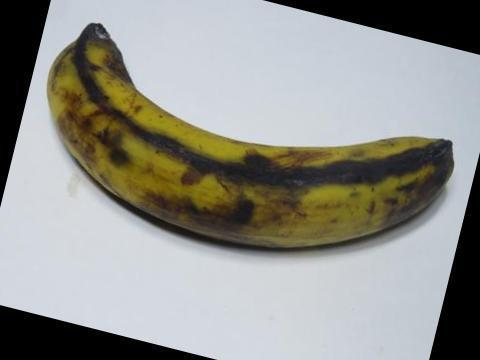overripe: (44, 21, 466, 255)
